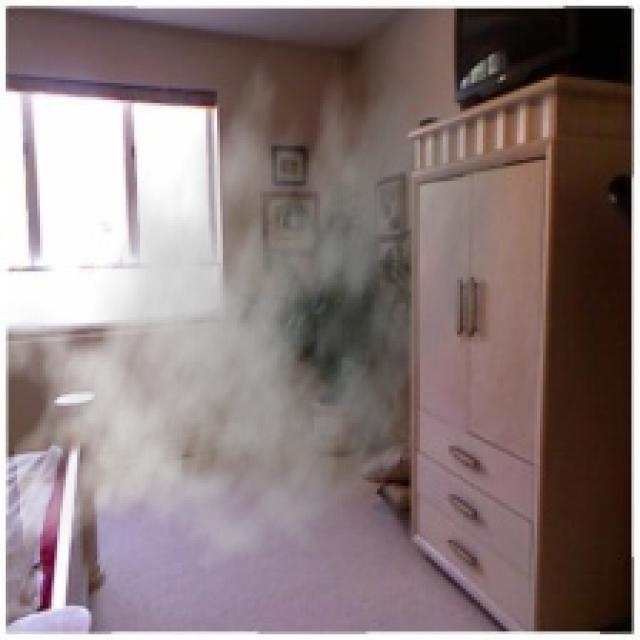Smoke: (0, 22, 517, 592)
